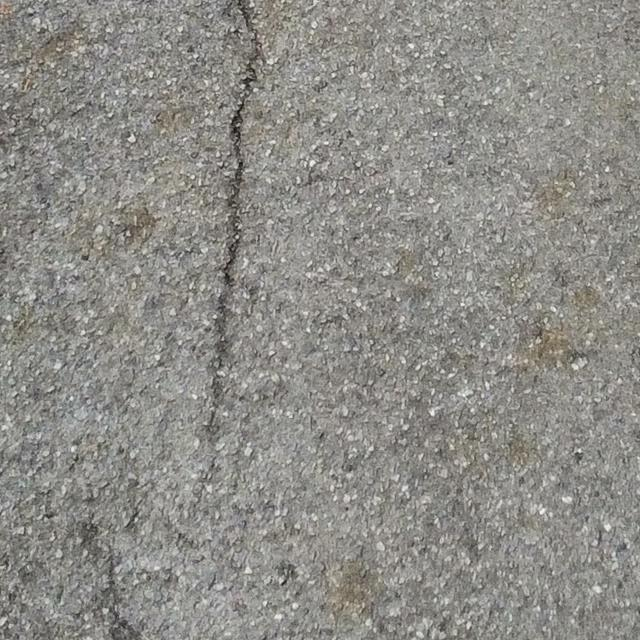LongitudinalCrack: (203, 1, 267, 430)
